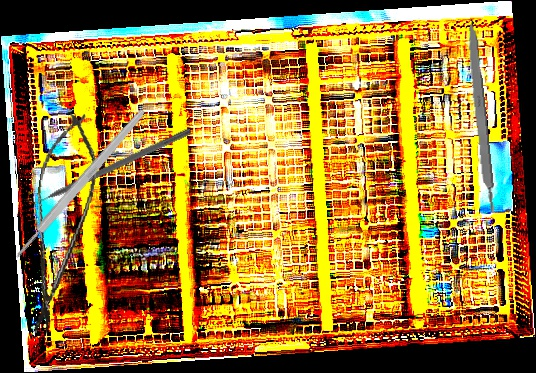Chopper: (20, 119, 192, 211)
Micro Scissor: (15, 105, 106, 342)
Scalpel Handle: (12, 106, 148, 261), (463, 18, 497, 215)
